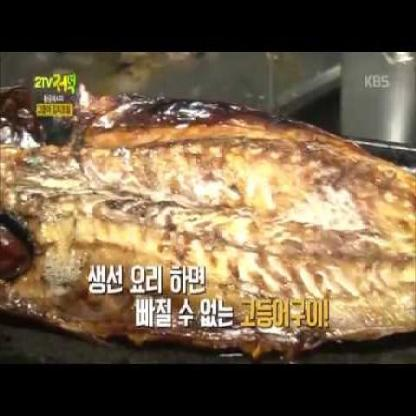Peixe: (1, 80, 416, 354)
